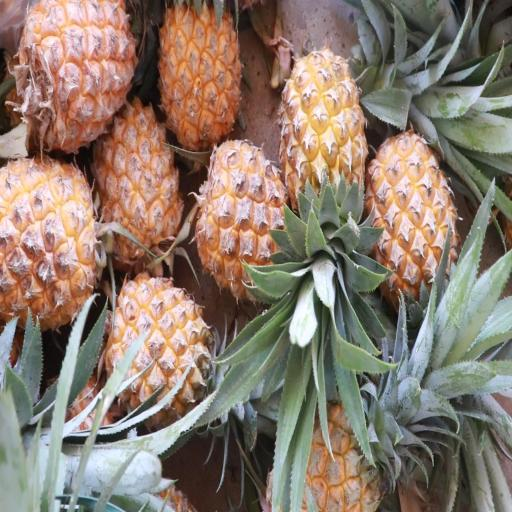Pineapple - v8 v1: (12, 0, 138, 163), (0, 150, 103, 333), (101, 262, 216, 420), (279, 49, 371, 245), (362, 128, 457, 315), (195, 139, 297, 309), (94, 94, 184, 270), (157, 2, 244, 162)
